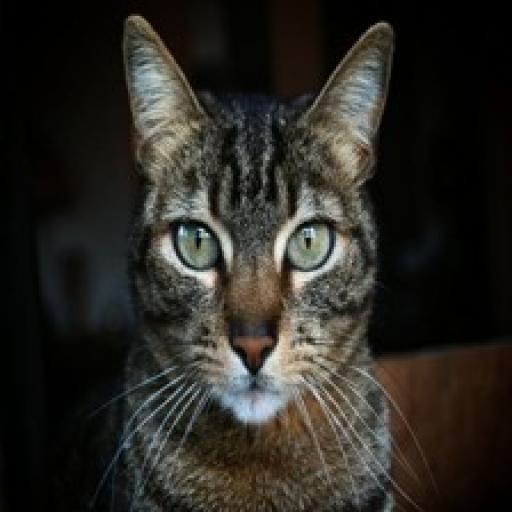cat: (78, 6, 402, 512)
